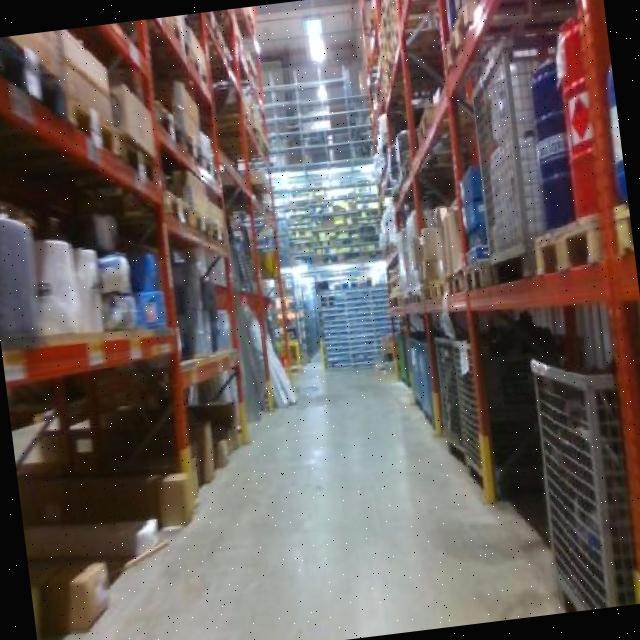pallet: (525, 208, 635, 284), (57, 74, 126, 164), (158, 178, 198, 230), (459, 255, 494, 296), (442, 265, 472, 299)
